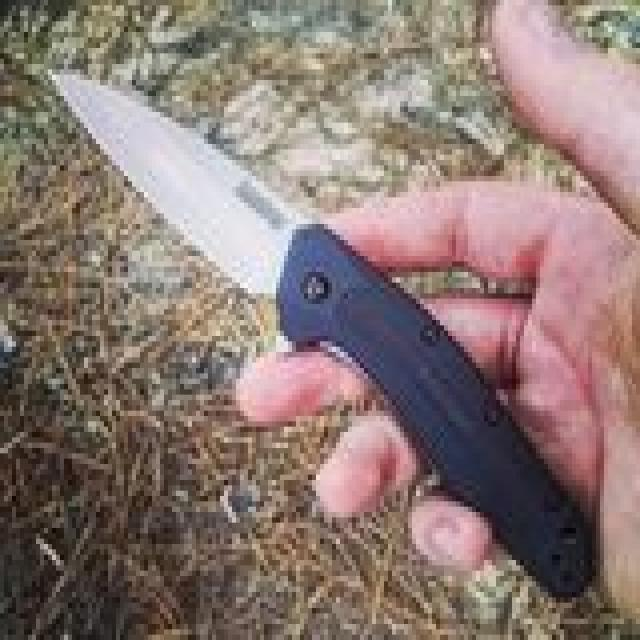Knife: (21, 43, 579, 586)
